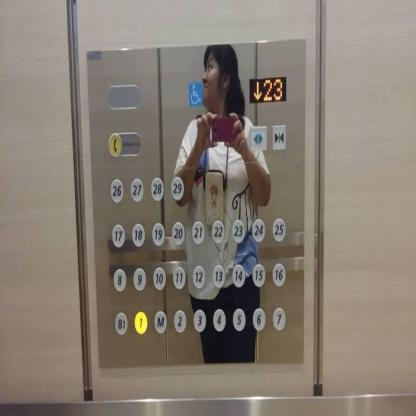1: (133, 310, 148, 335)
10: (152, 265, 166, 290)
11: (172, 265, 186, 290)
12: (191, 264, 206, 288)
13: (211, 264, 225, 288)
14: (232, 263, 246, 288)
15: (251, 262, 266, 287)
16: (271, 262, 286, 288)
17: (111, 222, 125, 248)
18: (131, 221, 145, 247)
19: (151, 220, 165, 246)
2: (172, 308, 187, 334)
20: (171, 220, 185, 245)
21: (190, 220, 205, 245)
22: (210, 218, 226, 243)
23: (231, 218, 245, 242)
24: (251, 217, 266, 243)
25: (271, 216, 286, 242)
26: (109, 178, 124, 204)
27: (129, 176, 144, 202)
28: (149, 175, 164, 202)
29: (170, 174, 184, 201)
3: (192, 306, 206, 332)
4: (212, 306, 226, 333)
5: (232, 306, 246, 333)
6: (251, 306, 266, 332)
7: (271, 306, 286, 331)
8: (112, 266, 127, 292)
9: (132, 265, 146, 291)
B1: (114, 311, 127, 335)
CH: (188, 80, 202, 106)
M: (153, 308, 167, 334)
call: (107, 130, 122, 156)
close: (271, 124, 286, 149)
led: (249, 76, 286, 103)
open: (249, 125, 267, 149)
